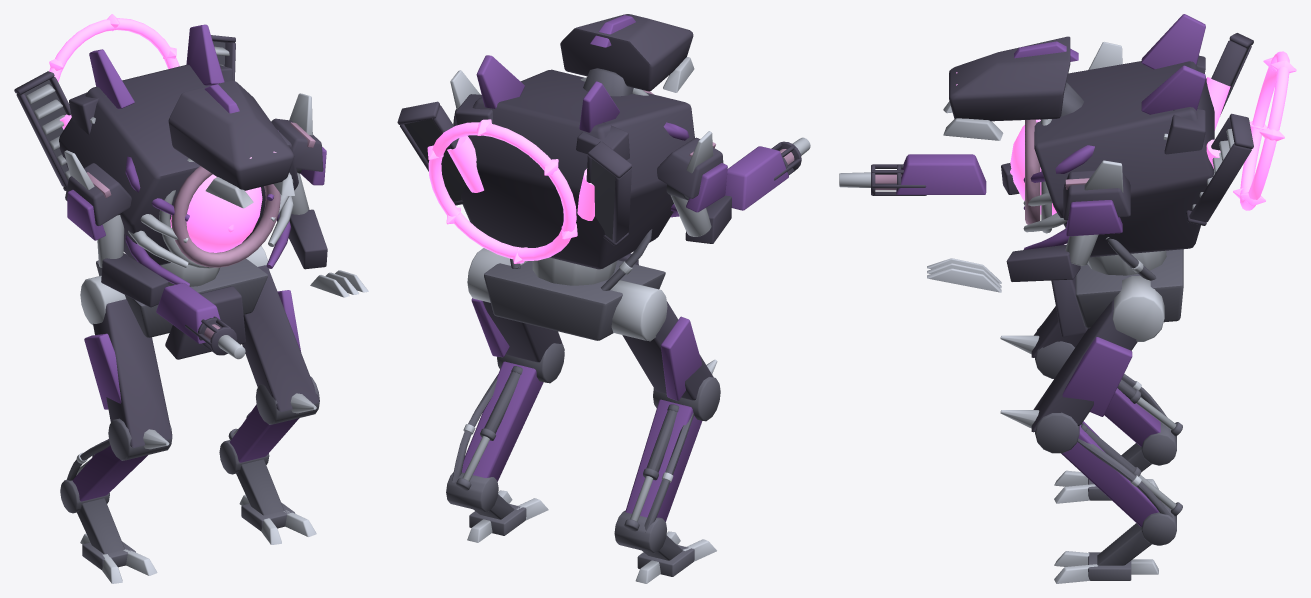
File: volatile_rusher.glb
3 views of the same model, side by side, from view 1: azimuth 30°, elevation 25°; view 2: azimuth 150°, elevation 25°; view 3: azimuth 270°, elevation 25° (orthographic). The views are drawn at different scales.
Visible parts, largest first — view 1: BodyGroup_ArmorAlloy, HeadGroup_ArmorAlloy, RightThigh_ArmorAlloy, RightArm_ArmorAlloy, LeftThigh_ArmorAlloy, LeftArm_ArmorAlloy, Pelvis_ArmorAlloy, RightShin_ArmorAlloy, RightFoot_ArmorAlloy, LeftFoot_ArmorAlloy, BodyGroup_A3_MagentaCore, WeaponSlide_ArmorAlloy (+4 smaller); view 2: BodyGroup_ArmorAlloy, HeadGroup_ArmorAlloy, Pelvis_ArmorAlloy, LeftShin_ArmorAlloy, RightThigh_ArmorAlloy, RightShin_ArmorAlloy, CoreRing_0_A3_MagentaCore, RightArm_ArmorAlloy, LeftThigh_ArmorAlloy, RightFoot_ArmorAlloy, LeftFoot_ArmorAlloy, HeatVent_R_ArmorAlloy (+4 smaller); view 3: BodyGroup_ArmorAlloy, HeadGroup_ArmorAlloy, LeftArm_ArmorAlloy, LeftThigh_ArmorAlloy, LeftShin_ArmorAlloy, Pelvis_ArmorAlloy, WeaponSlide_ArmorAlloy, LeftFoot_ArmorAlloy, RightShin_ArmorAlloy, CoreRing_0_A3_MagentaCore, HeatVent_L_ArmorAlloy, RightFoot_ArmorAlloy (+4 smaller).
Boxes of the visible parts, x1,y1,x2,y2 form: BodyGroup_ArmorAlloy: [59, 24, 298, 286]; HeadGroup_ArmorAlloy: [168, 80, 294, 208]; RightThigh_ArmorAlloy: [80, 275, 172, 447]; RightArm_ArmorAlloy: [64, 150, 168, 307]; LeftThigh_ArmorAlloy: [231, 246, 319, 411]; LeftArm_ArmorAlloy: [271, 93, 368, 297]; Pelvis_ArmorAlloy: [96, 253, 267, 359]; RightShin_ArmorAlloy: [66, 418, 172, 501]; RightFoot_ArmorAlloy: [60, 480, 157, 583]; LeftFoot_ArmorAlloy: [219, 440, 316, 544]; BodyGroup_A3_MagentaCore: [60, 114, 262, 252]; WeaponSlide_ArmorAlloy: [156, 283, 245, 359]; BodyGroup_ArmorAlloy: [455, 55, 694, 290]; HeadGroup_ArmorAlloy: [560, 14, 694, 96]; Pelvis_ArmorAlloy: [484, 253, 665, 340]; LeftShin_ArmorAlloy: [452, 343, 564, 490]; RightThigh_ArmorAlloy: [610, 280, 713, 400]; RightShin_ArmorAlloy: [624, 359, 720, 532]; CoreRing_0_A3_MagentaCore: [427, 119, 577, 263]; RightArm_ArmorAlloy: [657, 131, 731, 243]; LeftThigh_ArmorAlloy: [467, 248, 564, 362]; RightFoot_ArmorAlloy: [614, 510, 716, 583]; LeftFoot_ArmorAlloy: [446, 472, 548, 542]; HeatVent_R_ArmorAlloy: [586, 141, 631, 245]; BodyGroup_ArmorAlloy: [1023, 14, 1214, 280]; HeadGroup_ArmorAlloy: [943, 36, 1083, 140]; LeftArm_ArmorAlloy: [927, 160, 1130, 292]; LeftThigh_ArmorAlloy: [1031, 276, 1164, 432]; LeftShin_ArmorAlloy: [1000, 410, 1182, 526]; Pelvis_ArmorAlloy: [1051, 249, 1183, 337]; WeaponSlide_ArmorAlloy: [839, 154, 986, 195]; LeftFoot_ArmorAlloy: [1054, 502, 1176, 583]; RightShin_ArmorAlloy: [1000, 326, 1182, 446]; CoreRing_0_A3_MagentaCore: [1233, 51, 1296, 210]; HeatVent_L_ArmorAlloy: [1186, 113, 1253, 225]; RightFoot_ArmorAlloy: [1054, 422, 1176, 503].
Size of the model in its own units: 0.8165 by 1.54 by 1.3.
